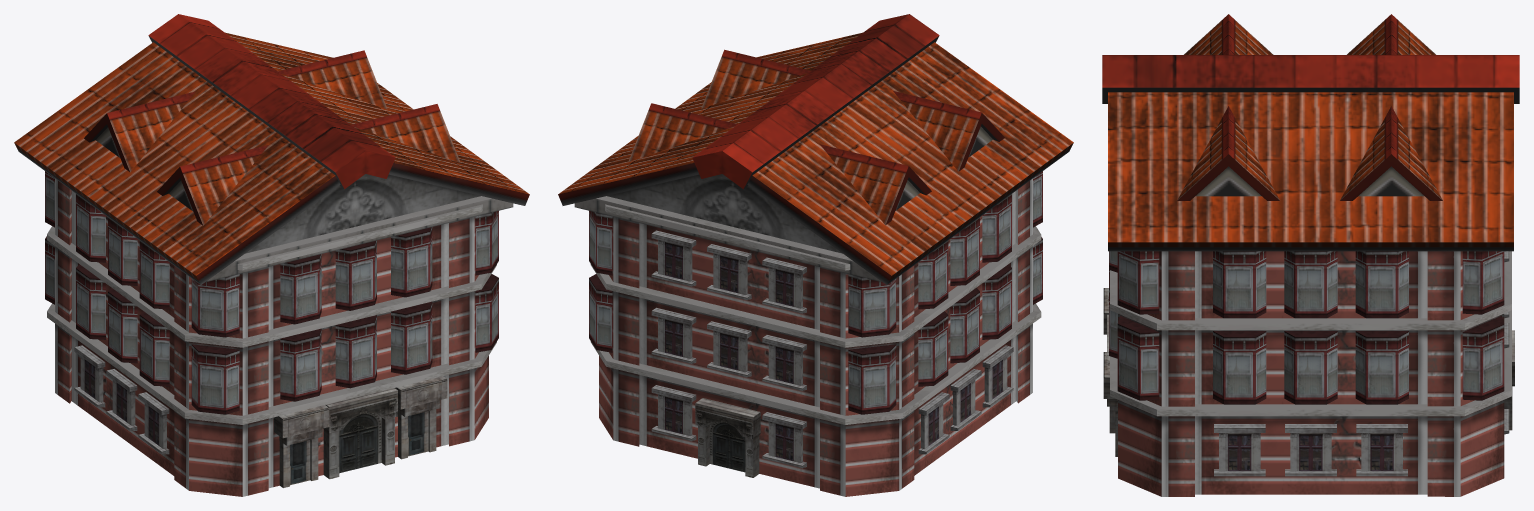
The model's file is Building03_corner1.FBX.
3 views of the same model, side by side, from view 1: azimuth 30°, elevation 25°; view 2: azimuth 150°, elevation 25°; view 3: azimuth 270°, elevation 25° (orthographic). The views are drawn at different scales.
Visible parts, largest first — view 1: Building_corner1; view 2: Building_corner1; view 3: Building_corner1.
Boxes of the visible parts, bbox=[...] form: Building_corner1: bbox=[14, 14, 529, 496]; Building_corner1: bbox=[558, 14, 1073, 496]; Building_corner1: bbox=[1102, 14, 1519, 496].
Size of the model in its own units: 9.04 by 8.35 by 8.79.
